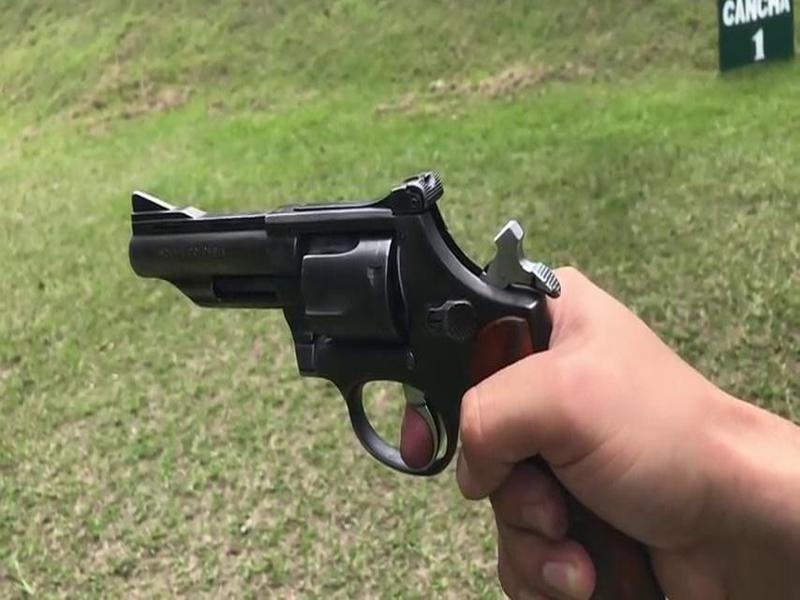Revolver: (121, 165, 573, 498)
